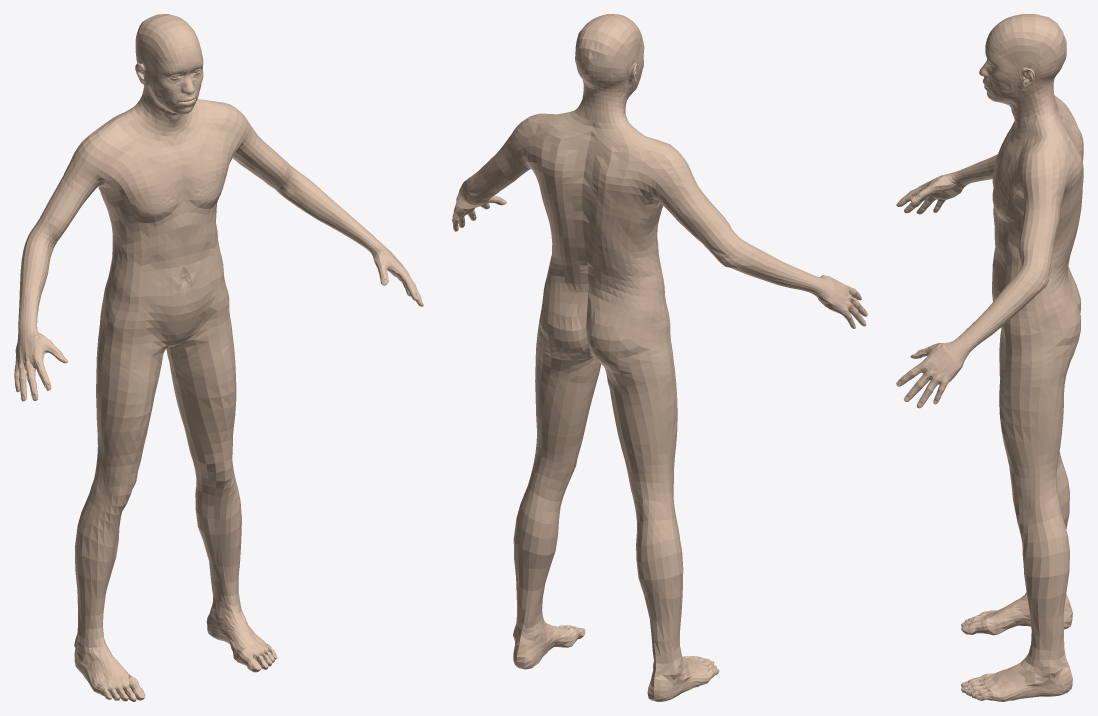
File: male-mature-lean-high.glb
3 renders of one model, left to right at view 1: azimuth 30°, elevation 25°; view 2: azimuth 150°, elevation 25°; view 3: azimuth 270°, elevation 25°, orthographic.
Visible parts, largest first — view 1: world; view 2: world; view 3: world.
Boxes of the visible parts, <box> form: world: <box>14,14,423,701</box>; world: <box>452,14,867,701</box>; world: <box>896,14,1083,701</box>.
Size of the model in its own units: 1.26 by 1.94 by 0.5111.
